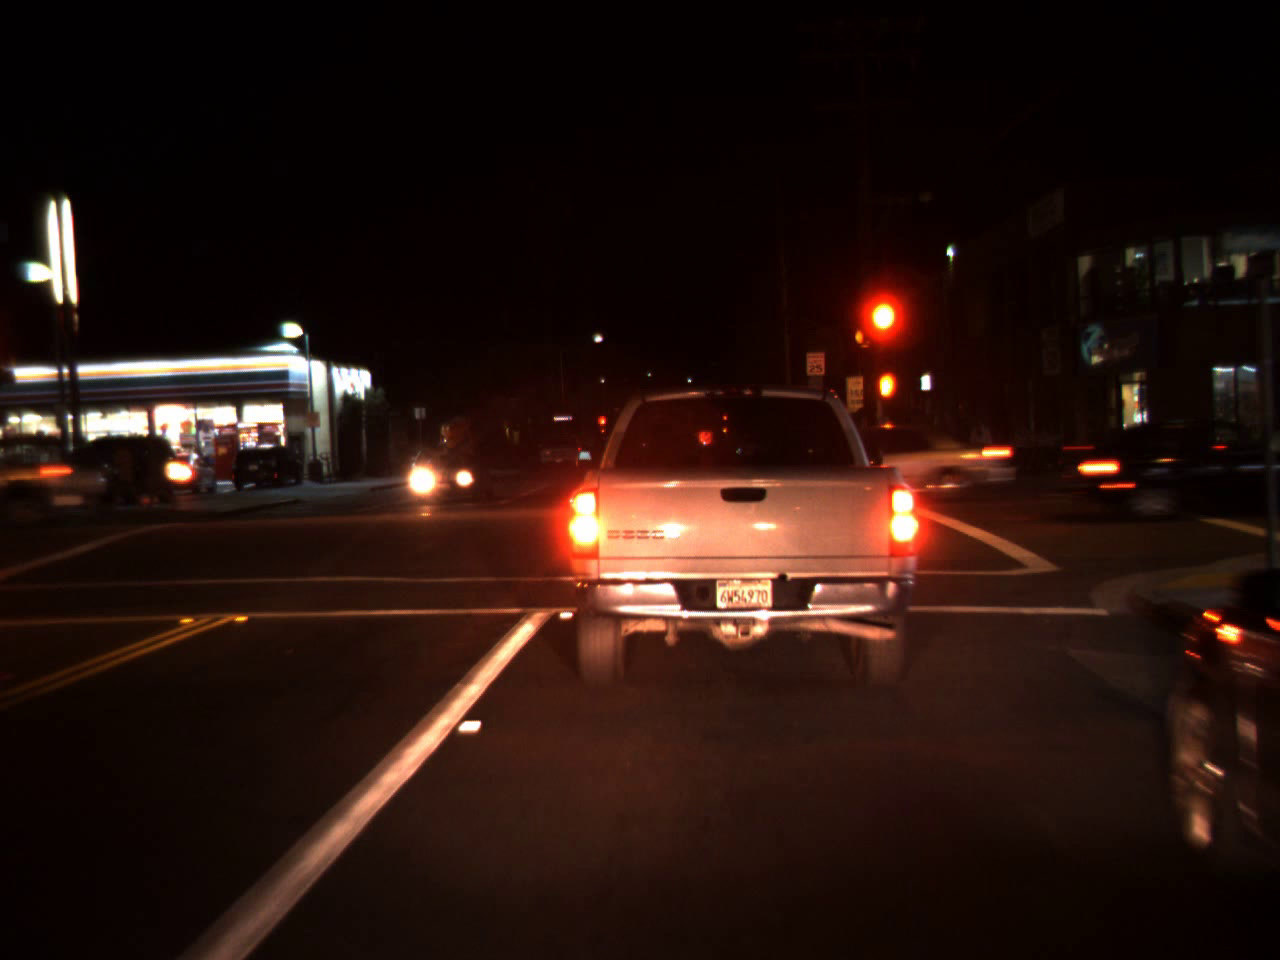stop: (864, 298, 900, 362), (597, 414, 607, 435)
